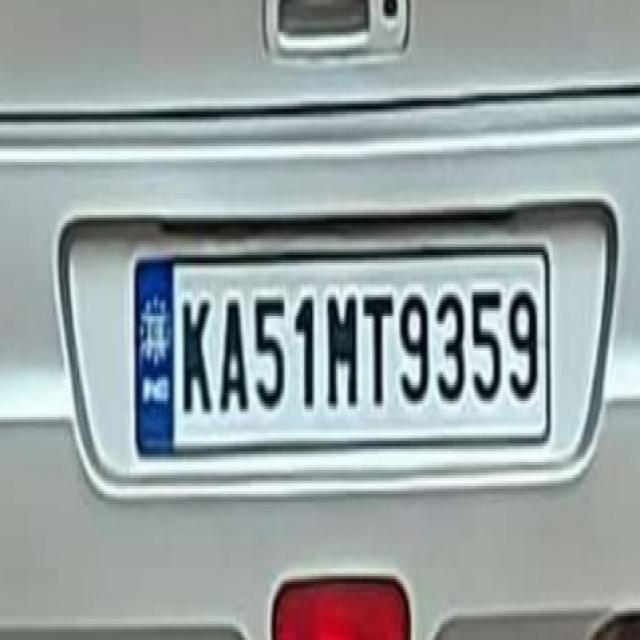1: (293, 277, 316, 418)
3: (432, 284, 468, 416)
5: (468, 278, 504, 416), (252, 291, 290, 409)
9: (506, 284, 544, 412), (398, 277, 428, 410)
A: (214, 270, 250, 429)
K: (178, 273, 214, 421)
M: (322, 263, 363, 409)
T: (362, 283, 395, 413)
